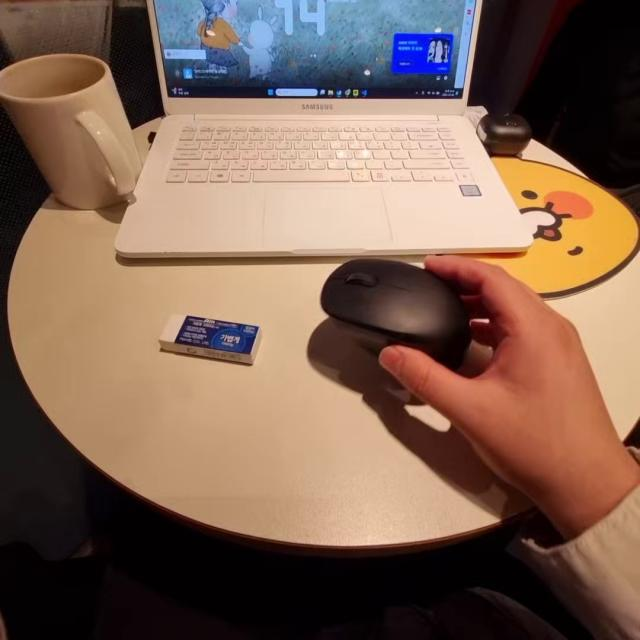eraser: (162, 310, 285, 388)
grab_mouse: (317, 246, 640, 491)
